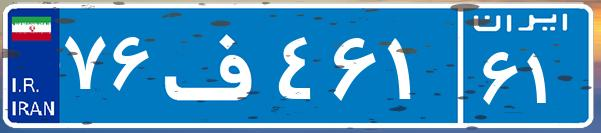1: (385, 28, 445, 110), (525, 38, 570, 115)
4: (273, 28, 330, 110)
6: (330, 28, 385, 110), (475, 38, 525, 113), (110, 28, 158, 105)
7: (57, 26, 110, 107)
ف: (158, 15, 273, 115)
